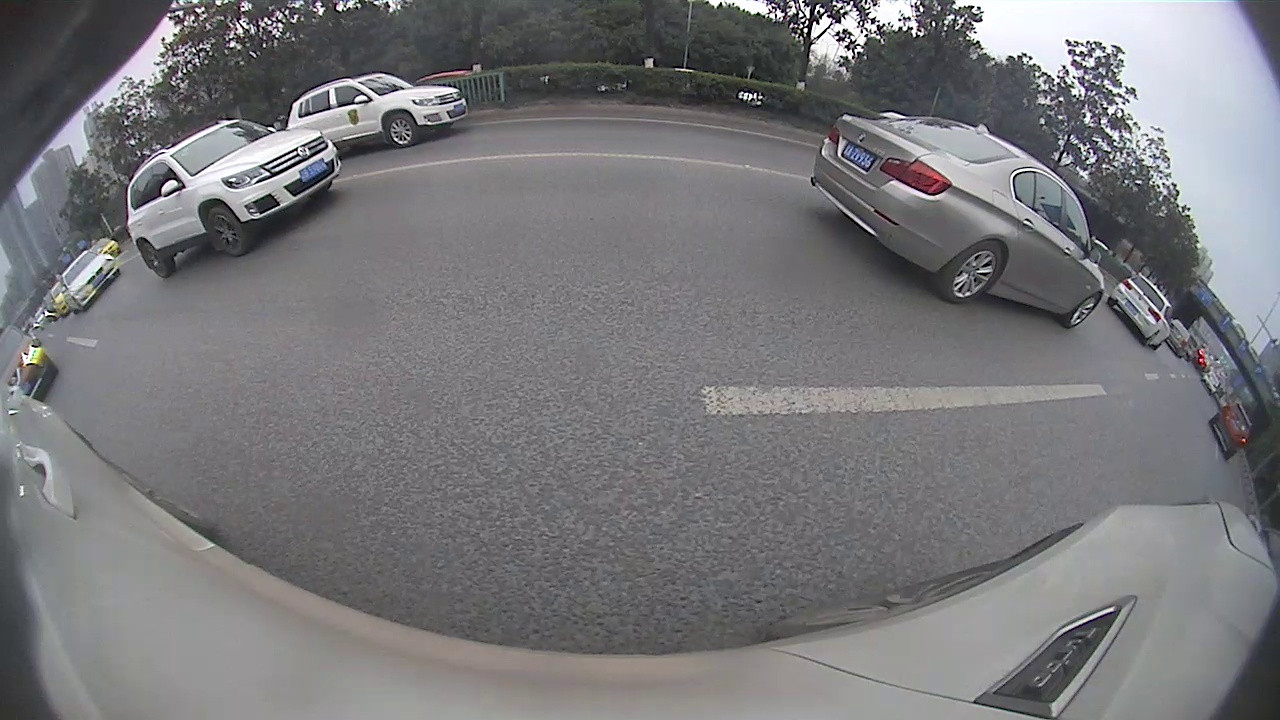car: (812, 111, 1106, 331), (128, 118, 340, 279), (287, 75, 469, 150), (1109, 273, 1173, 350), (2, 323, 56, 403), (59, 250, 118, 315), (1209, 400, 1254, 462)
front: (205, 203, 249, 258), (1067, 287, 1104, 329), (384, 111, 417, 148)
rear: (944, 240, 1004, 304), (139, 238, 172, 279)
